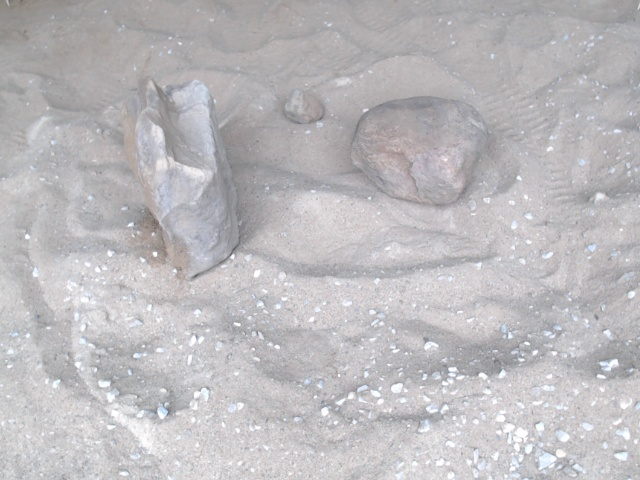rock: (118, 72, 246, 285), (346, 92, 492, 209), (279, 86, 328, 128)
